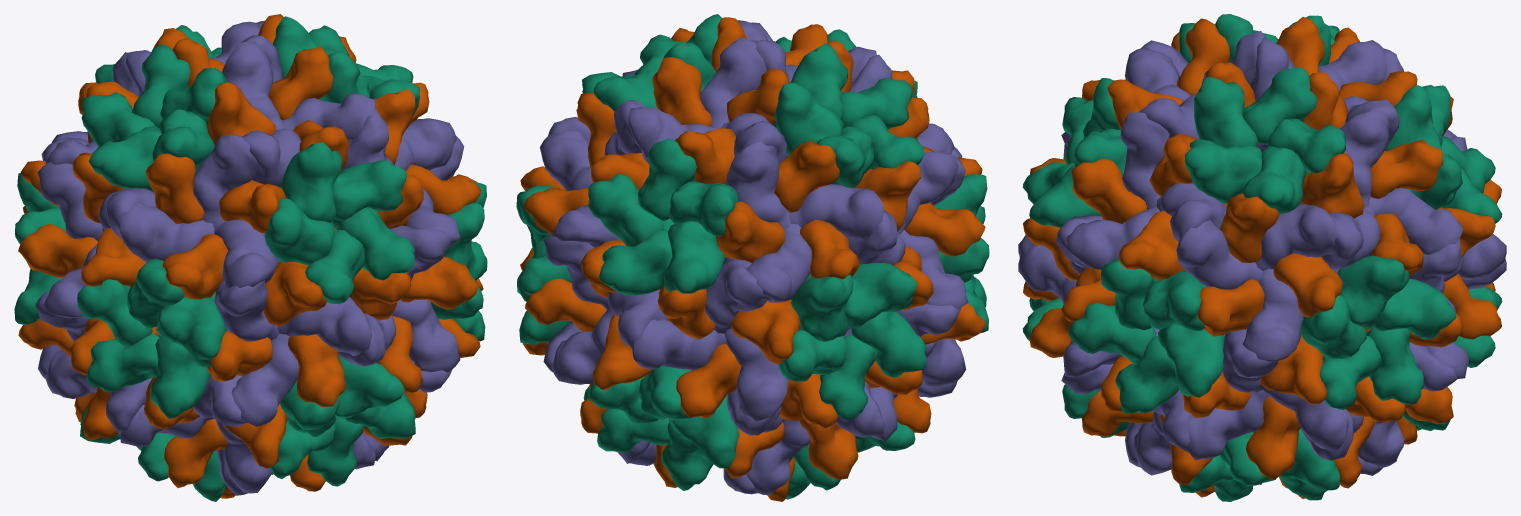
Rendered from 2TBV.glb.
3 renders of one model, left to right at view 1: azimuth 30°, elevation 25°; view 2: azimuth 150°, elevation 25°; view 3: azimuth 270°, elevation 25°, orthographic.
Bounding box in the file's own units: 347 × 347 × 347.
